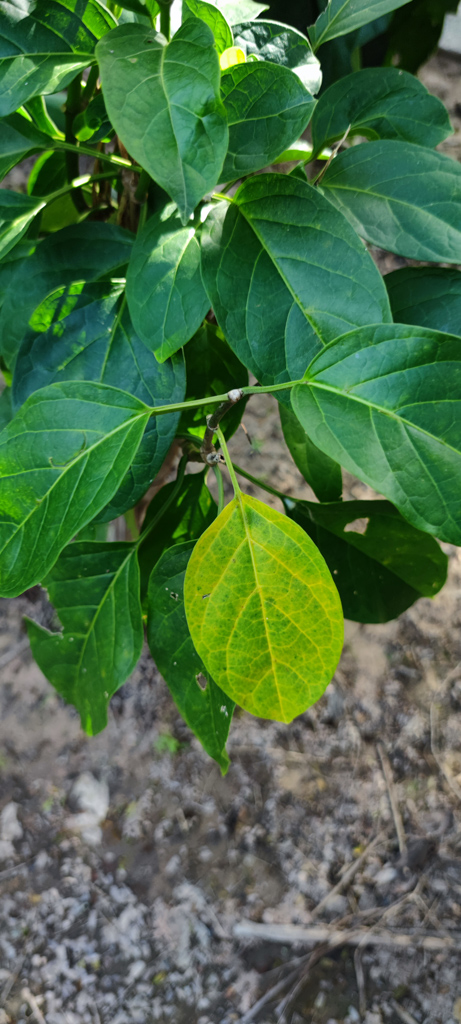Pepper yellow leaf: (191, 498, 341, 726)
